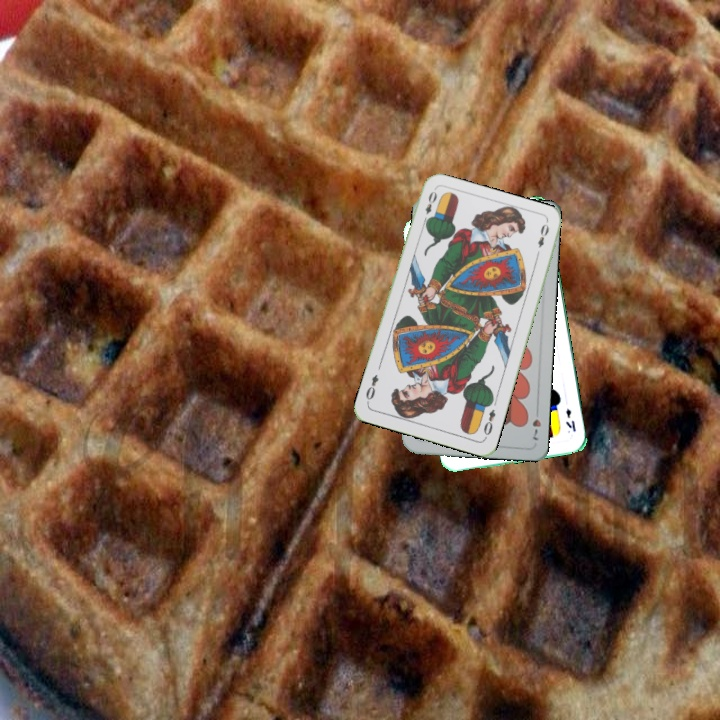EK: (562, 405, 578, 434)
EO: (419, 187, 439, 226), (479, 405, 498, 441)
H7: (529, 404, 544, 443)
